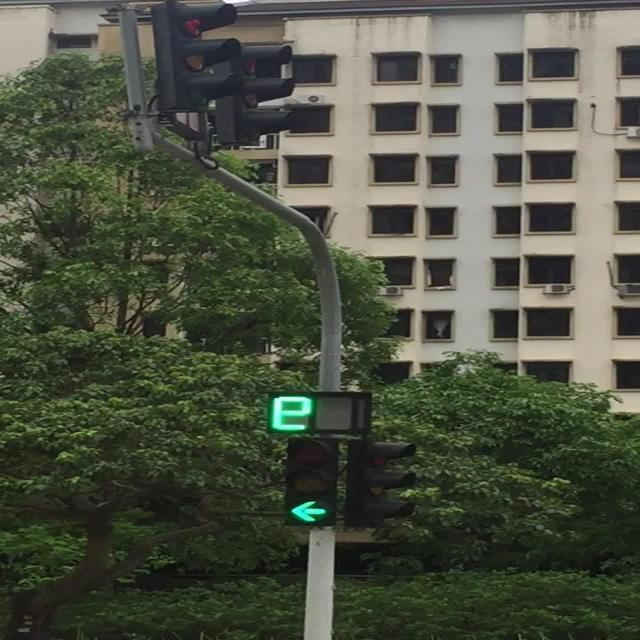green_light: (284, 438, 336, 526)
